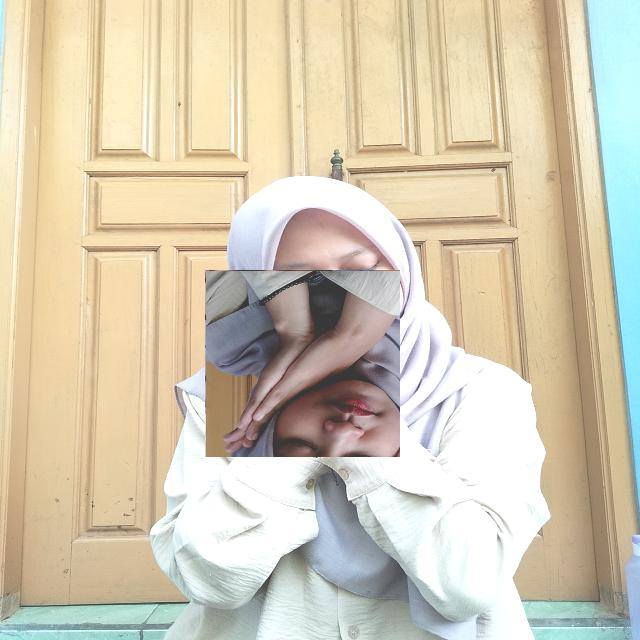tidur: (205, 270, 400, 457)
